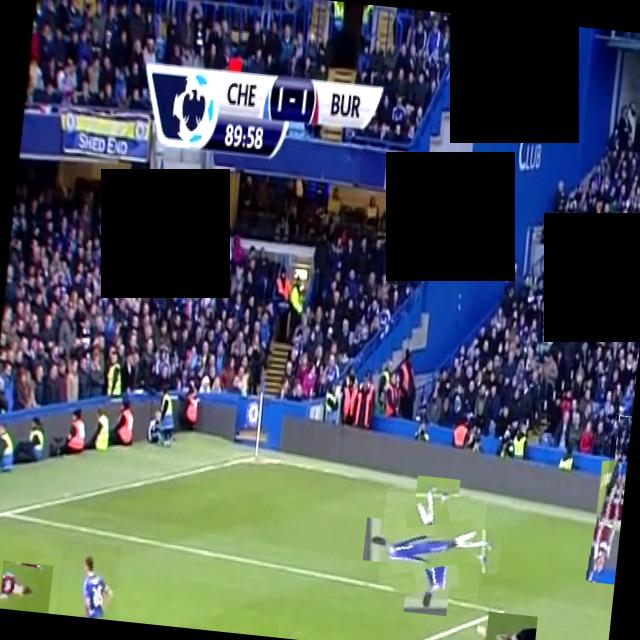referee: (602, 414, 632, 524), (482, 610, 536, 640)
soccer-player: (375, 490, 486, 599), (54, 538, 120, 620), (586, 458, 627, 583), (0, 559, 52, 613)
